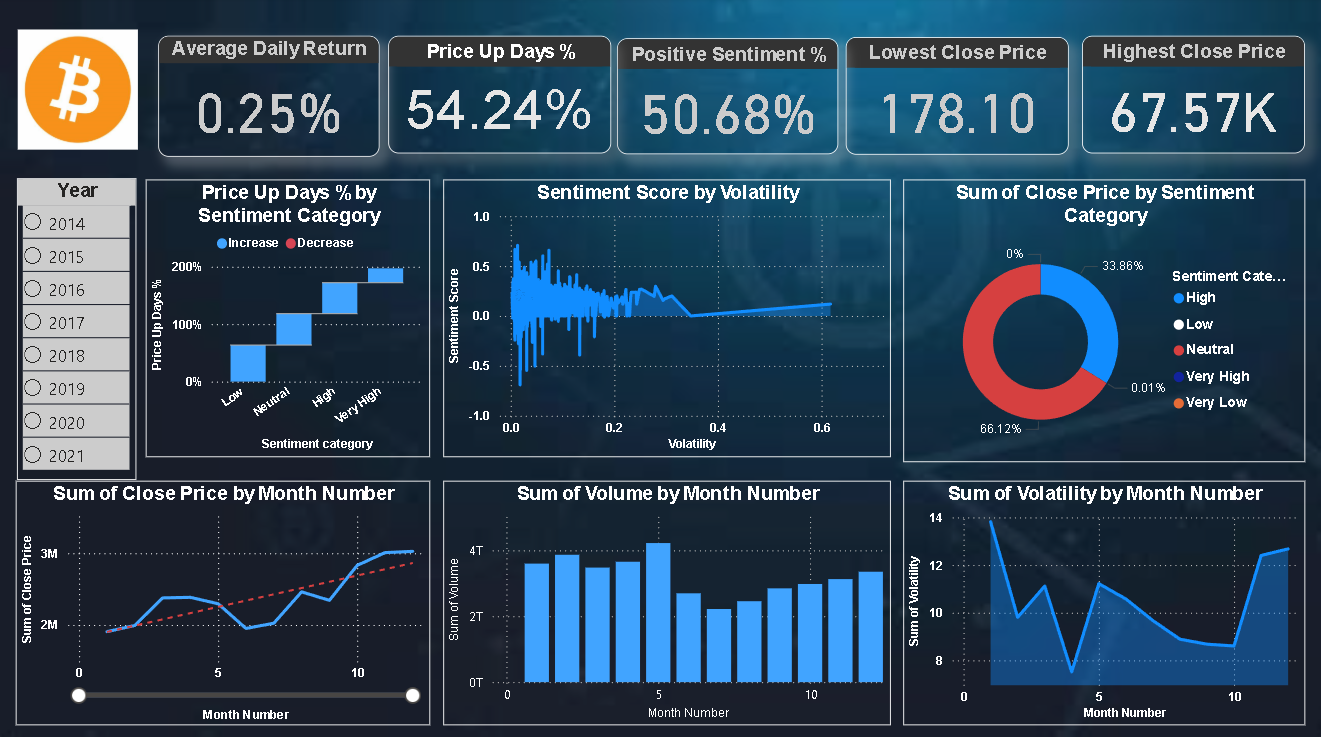

What the dashboard file says about the page in this screenshot:
{"tool":"powerbi","page":{"name":"Bitcoin","canvas":[1280,720],"ordinal":0},"visuals":[{"type":"card","title":"Lowest Close Price","fields":{"Values":["btc_with_sentiment.Lowest Close"]},"box":[818.9,38.5,215,114],"z":0},{"type":"card","title":"Average Daily Return","fields":{"Values":["btc_with_sentiment.Average Daily Return"]},"box":[156.1,37.9,213.6,116.7],"z":1000},{"type":"card","title":"Highest Close Price","fields":{"Values":["btc_with_sentiment.Highest Close"]},"box":[1047,37.9,215.2,113.6],"z":2000},{"type":"card","title":"Positive Sentiment %","fields":{"Values":["btc_with_sentiment.Positive Sentiment Days %"]},"box":[598.5,39.4,213.6,112.1],"z":3000},{"type":"card","title":"Price Up Days %","fields":{"Values":["btc_with_sentiment.Price Up Days %"]},"box":[377.3,37.9,215.2,113.6],"z":4000},{"type":"image","box":[0,26,155.8,125.5],"z":5000},{"type":"listSlicer","fields":{"Values":["btc_with_sentiment.Year"]},"box":[18.8,174.6,115.4,291.4],"z":6000},{"type":"lineChart","title":"Sum of Close Price by Month Number","fields":{"Y":["Sum(btc_with_sentiment.Close_BTC-USD)"],"Category":["btc_with_sentiment.Month Number"]},"box":[18.2,466.7,400,236.4],"z":7000},{"type":"columnChart","title":"Sum of Volume by Month Number","fields":{"Y":["Sum(btc_with_sentiment.Volume_BTC-USD)"],"Category":["btc_with_sentiment.Month Number"]},"box":[430.3,466.7,431.8,236.4],"z":8000},{"type":"areaChart","fields":{"Y":["Sum(btc_with_sentiment.Volatility)"],"Category":["btc_with_sentiment.Month Number"]},"box":[874.2,466.7,387.9,236.4],"z":9000},{"type":"donutChart","title":"Sum of Close Price by Sentiment Category","fields":{"Y":["Sum(btc_with_sentiment.Close_BTC-USD)"],"Series":["btc_with_sentiment.Sentiment_Category"]},"box":[874.2,175.8,387.9,272.7],"z":10000},{"type":"stackedAreaChart","title":"Sentiment Score by Volatility","fields":{"Category":["btc_with_sentiment.Volatility"],"Y":["Sum(btc_with_sentiment.Sentiment_Score)"]},"box":[430.3,175.8,431.8,268.2],"z":11000},{"type":"waterfallChart","title":"Price Up Days % by Sentiment Category","fields":{"Category":["btc_with_sentiment.Sentiment_Category"],"Y":["btc_with_sentiment.Price Up Days %"]},"box":[143.9,175.8,274.2,268.2],"z":12000}]}

Visuals, with their boxes in screenshot pixels (x1, y1, x2, y2), scaled from the page's 1280x720 canvas onto the 1321x737 screenshot:
"Lowest Close Price" card: {"x1": 845, "y1": 39, "x2": 1067, "y2": 156}
"Average Daily Return" card: {"x1": 161, "y1": 39, "x2": 382, "y2": 158}
"Highest Close Price" card: {"x1": 1081, "y1": 39, "x2": 1303, "y2": 155}
"Positive Sentiment %" card: {"x1": 618, "y1": 40, "x2": 838, "y2": 155}
"Price Up Days %" card: {"x1": 389, "y1": 39, "x2": 611, "y2": 155}
image: {"x1": 0, "y1": 27, "x2": 161, "y2": 155}
listSlicer - btc_with_sentiment.Year: {"x1": 19, "y1": 179, "x2": 138, "y2": 477}
"Sum of Close Price by Month Number" lineChart: {"x1": 19, "y1": 478, "x2": 432, "y2": 720}
"Sum of Volume by Month Number" columnChart: {"x1": 444, "y1": 478, "x2": 890, "y2": 720}
areaChart - Sum(btc_with_sentiment.Volatility) x btc_with_sentiment.Month Number: {"x1": 902, "y1": 478, "x2": 1303, "y2": 720}
"Sum of Close Price by Sentiment Category" donutChart: {"x1": 902, "y1": 180, "x2": 1303, "y2": 459}
"Sentiment Score by Volatility" stackedAreaChart: {"x1": 444, "y1": 180, "x2": 890, "y2": 454}
"Price Up Days % by Sentiment Category" waterfallChart: {"x1": 149, "y1": 180, "x2": 431, "y2": 454}
